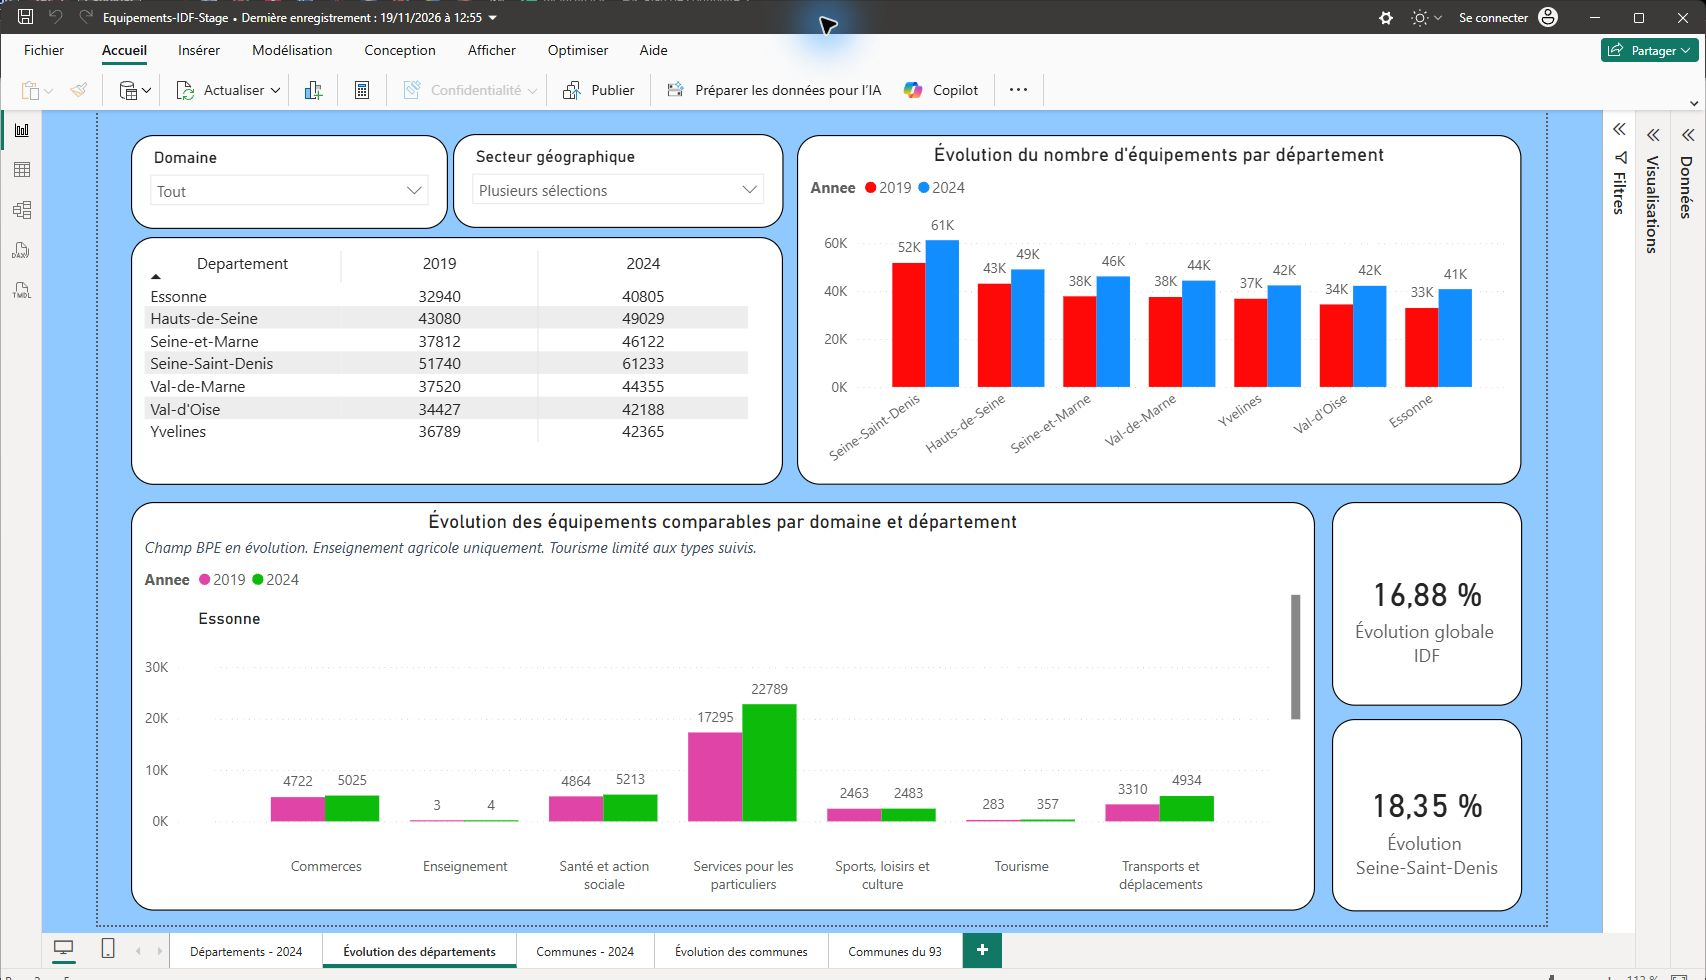

Layout of this report page (visuals, bound fields, positions):
{"tool":"powerbi","page":{"name":"Évolution des départements","canvas":[1280,720],"ordinal":1},"visuals":[{"type":"slicer","fields":{"Values":["RefDepartement.Nom_Departement"]},"box":[313.2,21.4,291.8,82.7],"z":0},{"type":"clusteredColumnChart","title":"Évolution du nombre d''équipements par département","fields":{"Category":["RefDepartement.Nom_Departement"],"Series":["EvolutionEkiDep.Annee"],"Y":["Sum(EvolutionEkiDep.Nombre_Equipements)"]},"box":[617.8,22.2,640,308.9],"z":1000},{"type":"pivotTable","fields":{"Columns":["EvolutionEkiDep.Annee"],"Rows":["RefDepartement.Nom_Departement"],"Values":["Sum(EvolutionEkiDep.Nombre_Equipements)"]},"box":[29,112,576,219],"z":2000},{"type":"clusteredColumnChart","title":"Évolution des équipements comparables par domaine et département","fields":{"Category":["RefEquipement.Nom_Domaine"],"Rows":["RefDepartement.Nom_Departement"],"Series":["EvolutionEkiDep.Annee"],"Y":["Sum(EvolutionEkiDep.Nombre_Equipements)"]},"box":[28.9,346.7,1045.6,361.1],"z":3000},{"type":"card","fields":{"Values":["EvolutionEkiDep.Evol_IDF_Pourcent"]},"box":[1090,346.7,167.8,180],"z":4000},{"type":"card","fields":{"Values":["EvolutionEkiDep.Evol_93_Pourcent"]},"box":[1090,537.8,167.8,170],"z":5000},{"type":"slicer","fields":{"Values":["RefEquipement.Nom_Domaine","RefEquipement.Nom_SousDomaine"]},"box":[28.9,22.2,280,83.3],"z":6000}]}

Visuals, with their boxes on the page's 1280x720 design canvas (x1, y1, x2, y2). These are canvas units, not pixel positions in the 1706x980 screenshot, which may show the page scaled, cropped or inside an application window:
slicer - RefDepartement.Nom_Departement: (313,21,605,104)
"Évolution du nombre d''équipements par département" clusteredColumnChart: (618,22,1258,331)
pivotTable - EvolutionEkiDep.Annee x RefDepartement.Nom_Departement: (29,112,605,331)
"Évolution des équipements comparables par domaine et département" clusteredColumnChart: (29,347,1074,708)
card - EvolutionEkiDep.Evol_IDF_Pourcent: (1090,347,1258,527)
card - EvolutionEkiDep.Evol_93_Pourcent: (1090,538,1258,708)
slicer - RefEquipement.Nom_Domaine x RefEquipement.Nom_SousDomaine: (29,22,309,106)
